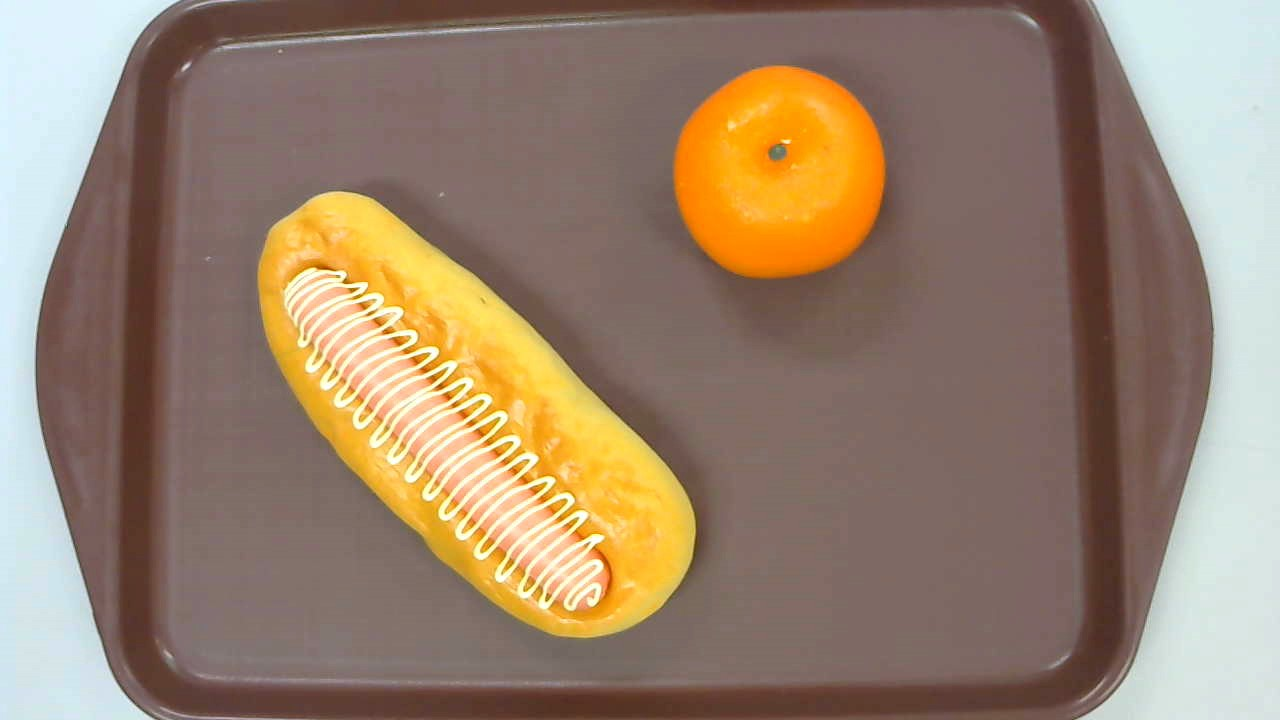hot dog: (257, 190, 697, 640)
orange: (672, 64, 885, 282)
